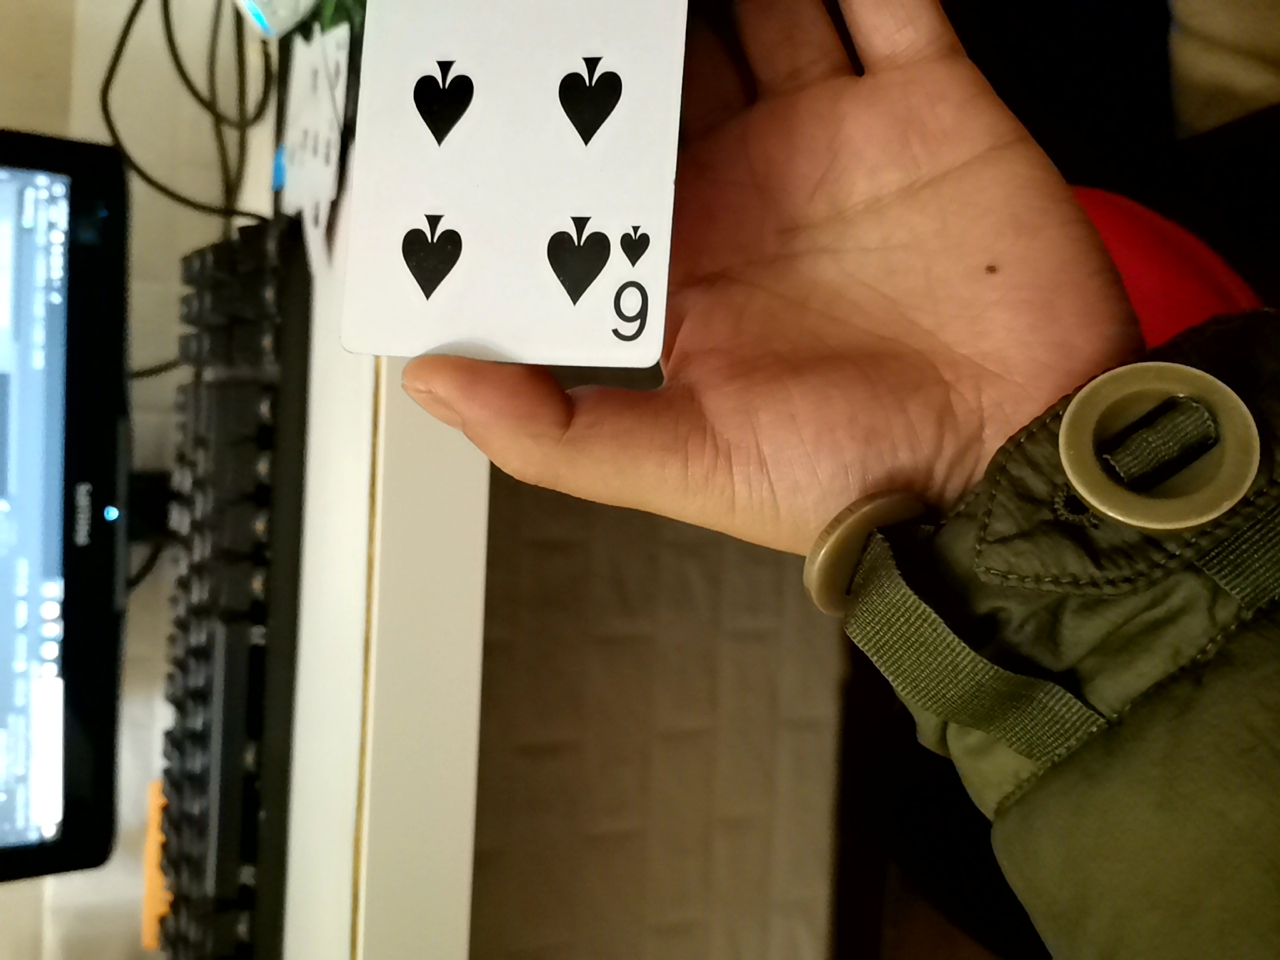ht 6: (315, 0, 706, 380)
